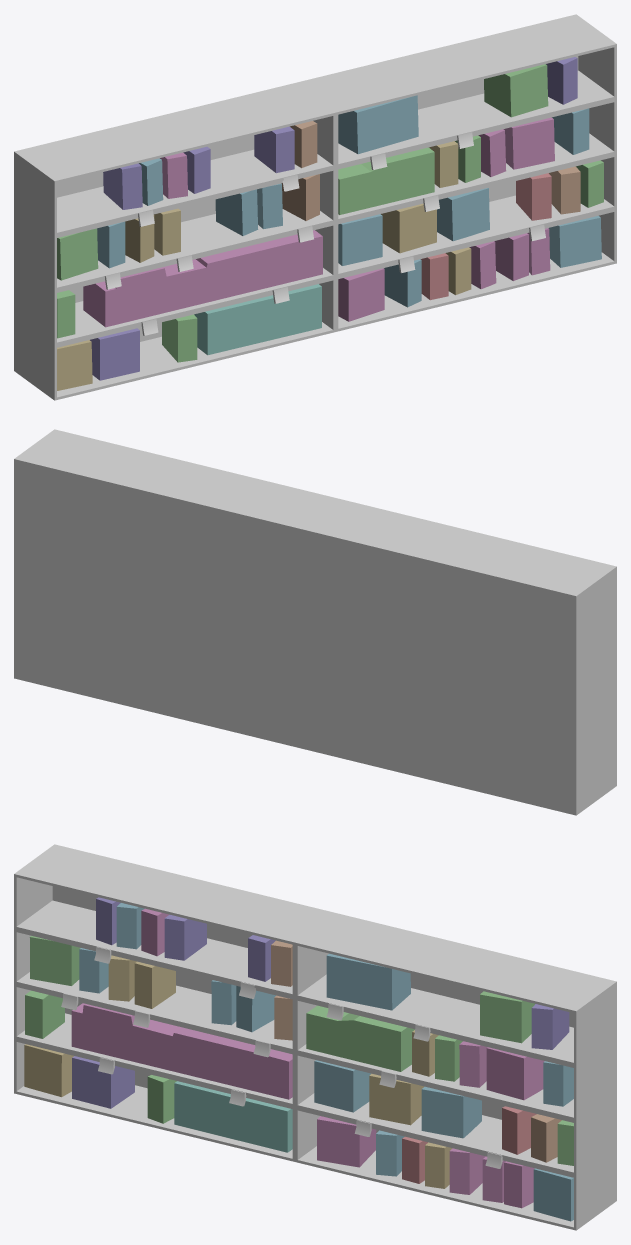
File: ShelfWide08.fbx
The picture shows the model from 3 angles, top to bottom: view 1: azimuth 30°, elevation 25°; view 2: azimuth 150°, elevation 25°; view 3: azimuth 330°, elevation 25°; orthographic projection.
Parts seen in each view (by area): view 1: ShelfWideMesh_8, ProdustShelfWide_8, PriceTags._8; view 2: ShelfWideMesh_8; view 3: ShelfWideMesh_8, ProdustShelfWide_8, PriceTags._8.
Boxes of the visible parts, x1=… form: ShelfWideMesh_8: x1=14, y1=14, x2=616, y2=400; ProdustShelfWide_8: x1=57, y1=57, x2=603, y2=390; PriceTags._8: x1=104, y1=132, x2=545, y2=335; ShelfWideMesh_8: x1=14, y1=429, x2=616, y2=815; ShelfWideMesh_8: x1=14, y1=844, x2=616, y2=1230; ProdustShelfWide_8: x1=24, y1=897, x2=573, y2=1221; PriceTags._8: x1=61, y1=946, x2=502, y2=1168.
Bounding box in the file's own units: 8 × 2.98 × 1.08.
